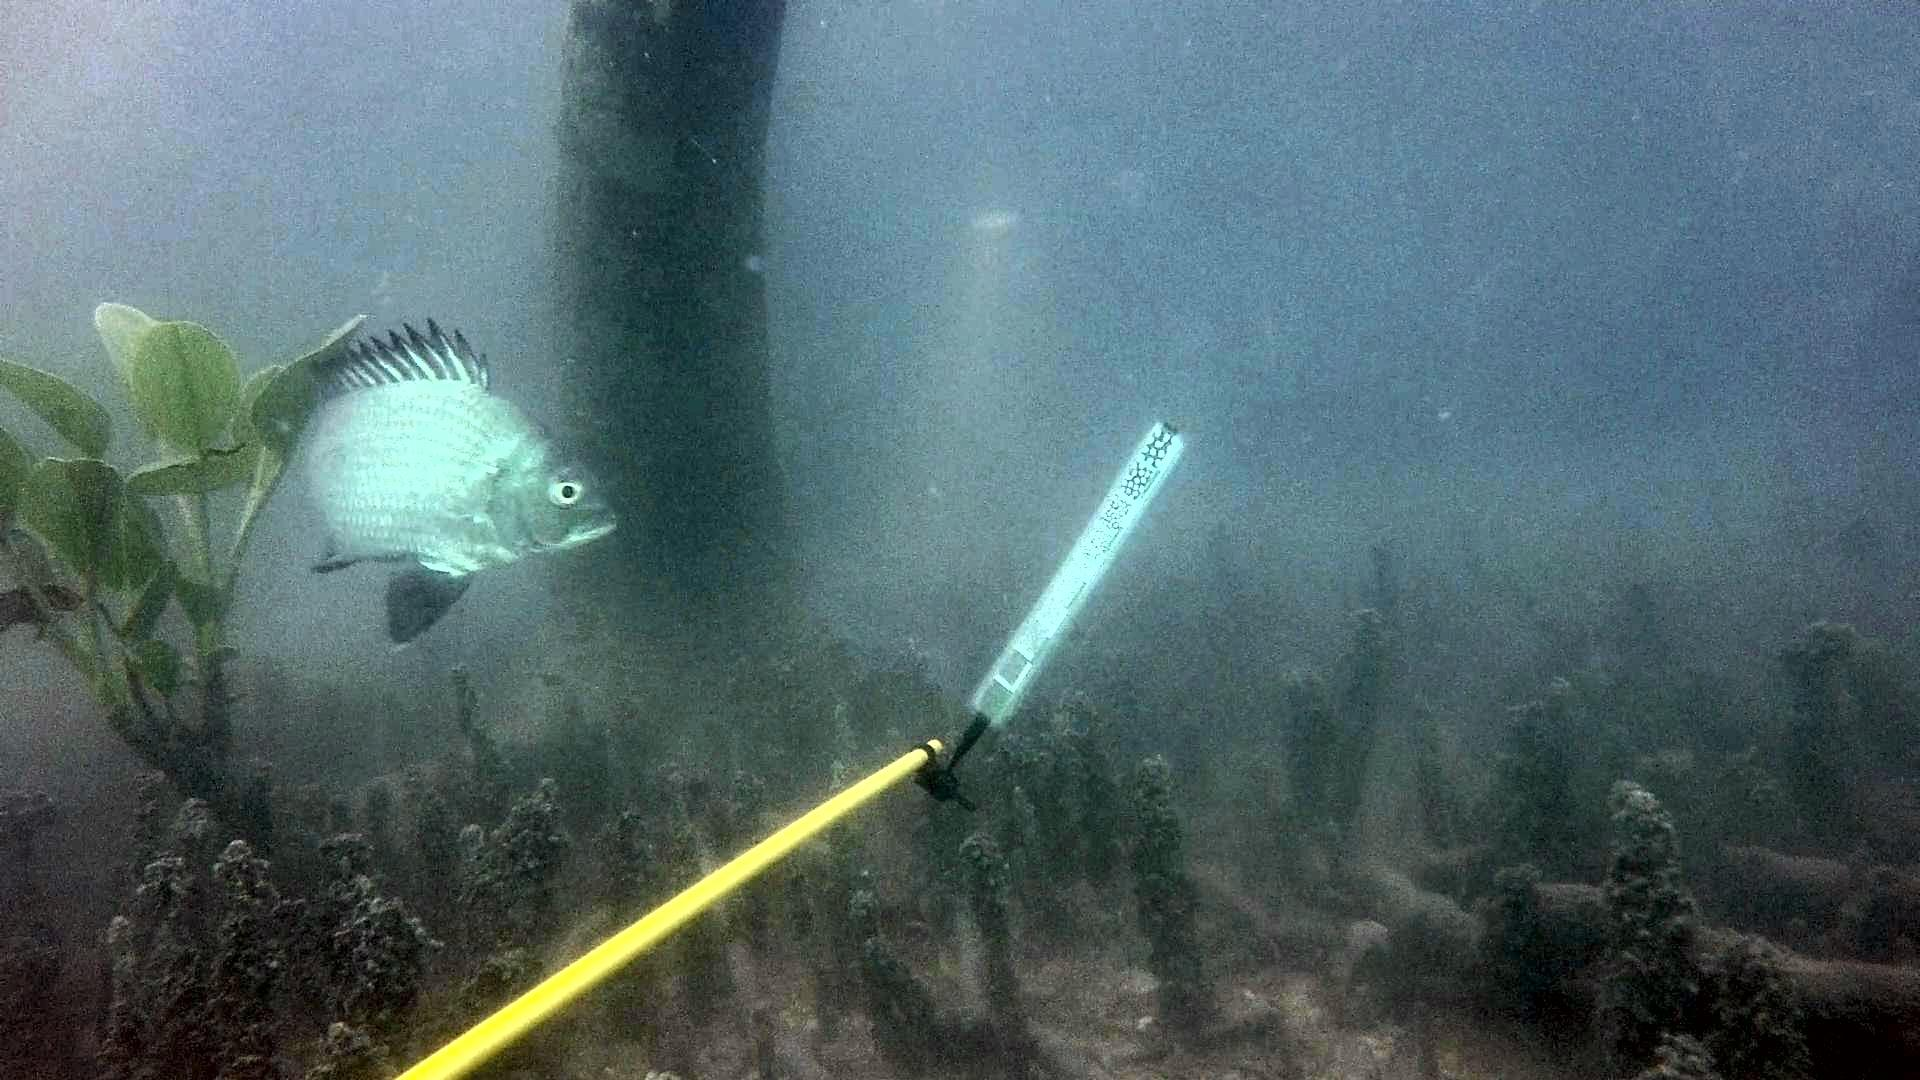acanthopagrus palmaris: (283, 313, 634, 660)
